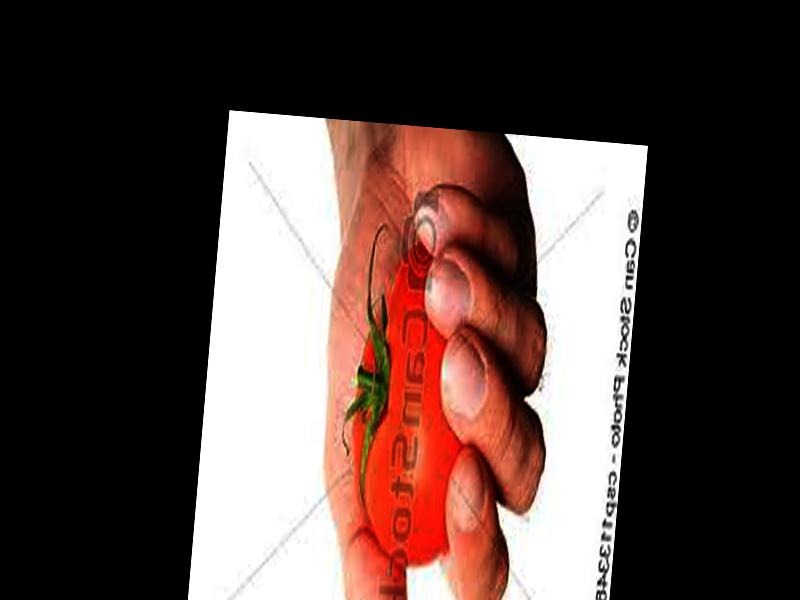Tomato: (344, 241, 476, 568)
